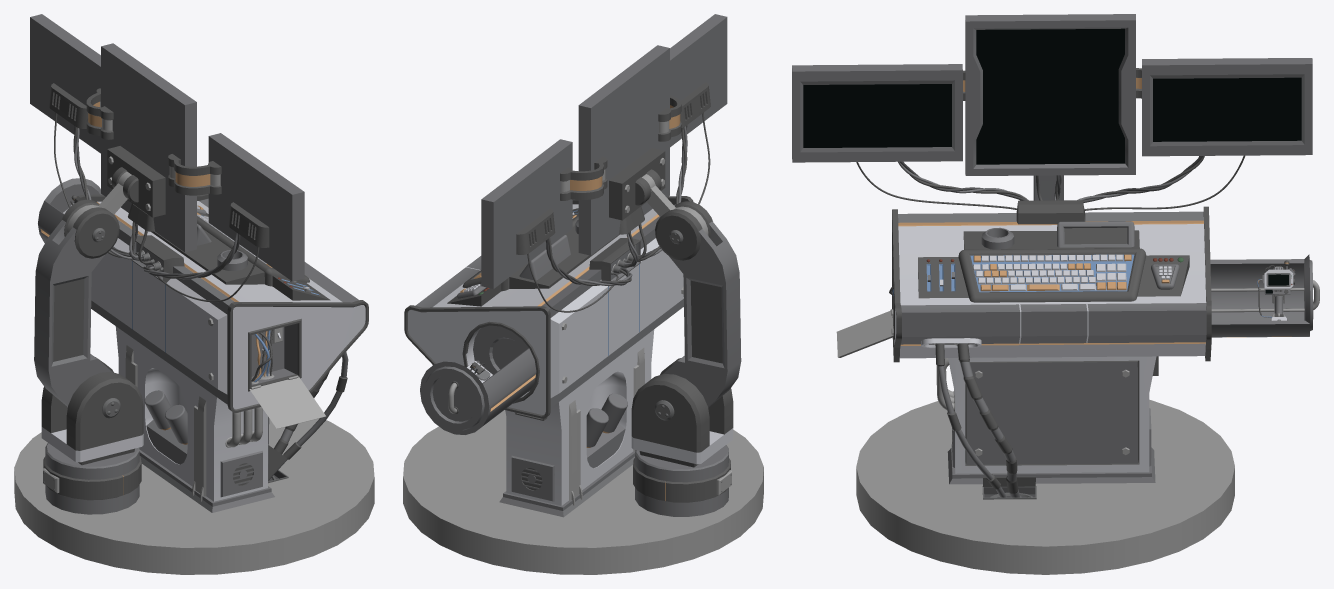
File: Terminal.fbx
The picture shows the model from 3 angles, left to right: view 1: azimuth 30°, elevation 25°; view 2: azimuth 150°, elevation 25°; view 3: azimuth 270°, elevation 25°; orthographic projection. The views are drawn at different scales.
Visible parts, largest first — view 1: polySurface54, Terminal1:polySurface25, Terminal1:pCube3, Terminal1:pCylinder55, Terminal1:polySurface24, Terminal1:pCube4, Terminal1:polySurface7, Terminal1:pCylinder58, Terminal1:pCube5, Terminal1:pCube6, Terminal1:pCylinder59, Terminal1:pCylinder60 (+18 smaller); view 2: polySurface54, Terminal1:polySurface25, Terminal1:pCube3, Terminal1:pCylinder55, Terminal1:polySurface7, Terminal1:pCube5, Terminal1:polySurface27, Terminal1:pCylinder58, Terminal1:polySurface16, Terminal1:pCube4, Terminal1:pCylinder59, Terminal1:pCylinder60 (+18 smaller); view 3: polySurface54, Terminal1:polySurface25, Terminal1:pCube3, Terminal1:polySurface7, Terminal1:pCube4, Terminal1:pCube5, Terminal1:pCube6, Terminal1:polySurface16, Terminal1:polySurface6, Terminal1:pCube12, Terminal1:sweep4, Terminal1:pCube8 (+5 smaller).
Boxes of the visible parts, x1=… form: polySurface54: x1=14, y1=418, x2=374, y2=574; Terminal1:polySurface25: x1=91, y1=198, x2=358, y2=404; Terminal1:pCube3: x1=101, y1=43, x2=196, y2=252; Terminal1:pCylinder55: x1=34, y1=220, x2=111, y2=406; Terminal1:polySurface24: x1=227, y1=300, x2=368, y2=412; Terminal1:pCube4: x1=208, y1=133, x2=304, y2=281; Terminal1:polySurface7: x1=115, y1=326, x2=269, y2=501; Terminal1:pCylinder58: x1=41, y1=357, x2=143, y2=462; Terminal1:pCube5: x1=30, y1=14, x2=100, y2=153; Terminal1:pCube6: x1=151, y1=212, x2=330, y2=300; Terminal1:pCylinder59: x1=45, y1=443, x2=139, y2=514; Terminal1:pCylinder60: x1=62, y1=183, x2=127, y2=258; polySurface54: x1=403, y1=410, x2=763, y2=574; Terminal1:polySurface25: x1=415, y1=204, x2=683, y2=407; Terminal1:pCube3: x1=578, y1=45, x2=669, y2=255; Terminal1:pCylinder55: x1=663, y1=221, x2=741, y2=407; Terminal1:polySurface7: x1=505, y1=329, x2=654, y2=505; Terminal1:pCube5: x1=481, y1=139, x2=572, y2=288; Terminal1:polySurface27: x1=404, y1=305, x2=550, y2=418; Terminal1:pCylinder58: x1=631, y1=358, x2=733, y2=464; Terminal1:polySurface16: x1=420, y1=348, x2=536, y2=434; Terminal1:pCube4: x1=670, y1=14, x2=727, y2=147; Terminal1:pCylinder59: x1=635, y1=445, x2=728, y2=516; Terminal1:pCylinder60: x1=646, y1=185, x2=712, y2=260; polySurface54: x1=856, y1=399, x2=1234, y2=574; Terminal1:polySurface25: x1=898, y1=200, x2=1206, y2=358; Terminal1:pCube3: x1=965, y1=14, x2=1135, y2=175; Terminal1:polySurface7: x1=948, y1=356, x2=1156, y2=473; Terminal1:pCube4: x1=792, y1=64, x2=962, y2=162; Terminal1:pCube5: x1=1142, y1=58, x2=1312, y2=156; Terminal1:pCube6: x1=918, y1=230, x2=1189, y2=302; Terminal1:polySurface16: x1=1210, y1=254, x2=1313, y2=337; Terminal1:polySurface6: x1=947, y1=444, x2=1155, y2=484; Terminal1:pCube12: x1=1057, y1=221, x2=1134, y2=247; Terminal1:sweep4: x1=957, y1=343, x2=1021, y2=497; Terminal1:pCube8: x1=836, y1=310, x2=893, y2=357.
Bounding box in the file's own units: 11.27 × 14.94 × 15.71.
